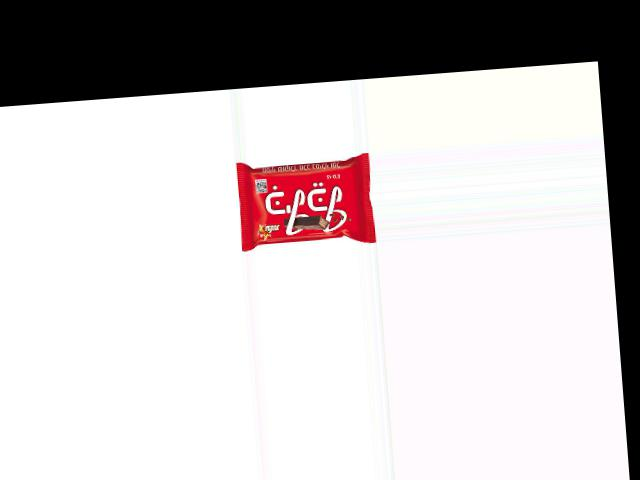chocolate: (236, 151, 375, 252)
